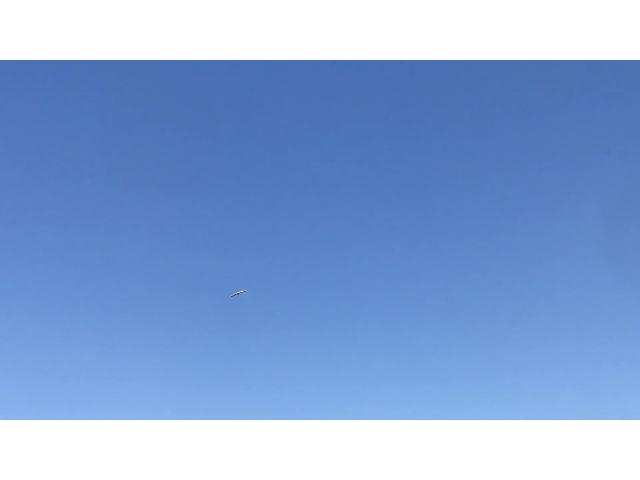Anti-Drone: (218, 274, 254, 302)
